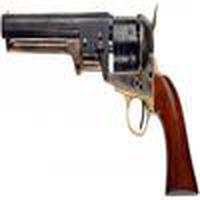gun: (1, 10, 198, 197)
